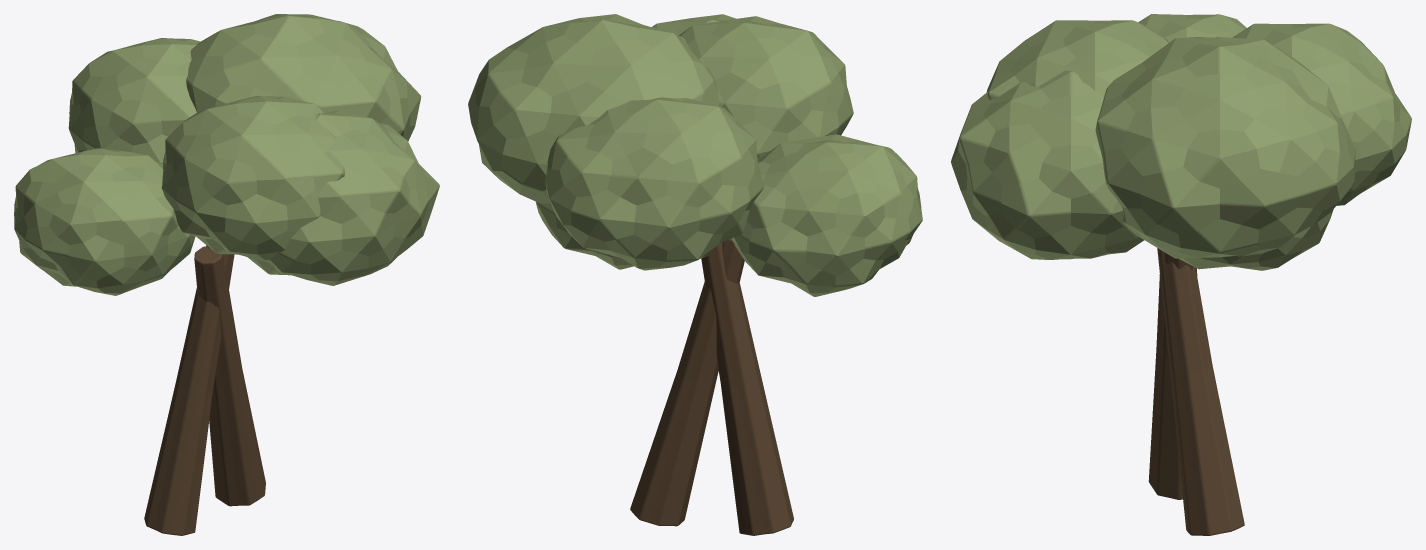
The model's file is grecia_olive.fbx.
The picture shows the model from 3 angles, left to right: view 1: azimuth 30°, elevation 25°; view 2: azimuth 150°, elevation 25°; view 3: azimuth 270°, elevation 25°; orthographic projection. The views are drawn at different scales.
Parts seen in each view (by area): view 1: grecia_olive; view 2: grecia_olive; view 3: grecia_olive.
Part boxes in pixels (bbox=[...]): grecia_olive: bbox=[14, 14, 439, 535]; grecia_olive: bbox=[468, 14, 922, 535]; grecia_olive: bbox=[951, 14, 1411, 535].
Bounding box in the file's own units: 2.99 × 3.42 × 2.77.
